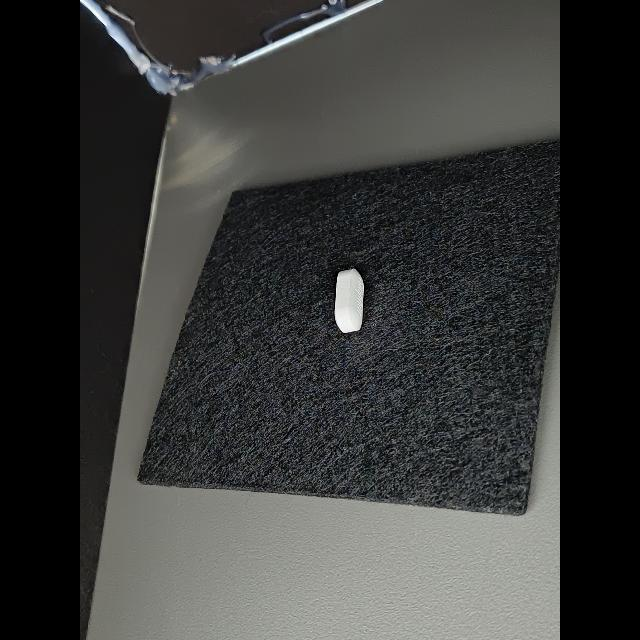Intact Pill: (335, 269, 364, 333)
